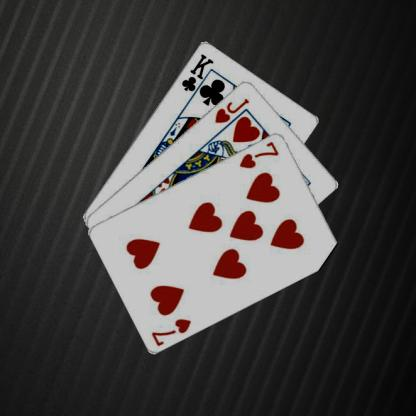7H: (236, 138, 280, 170), (148, 316, 192, 348)
JH: (212, 95, 251, 124)
KC: (178, 51, 215, 100)
